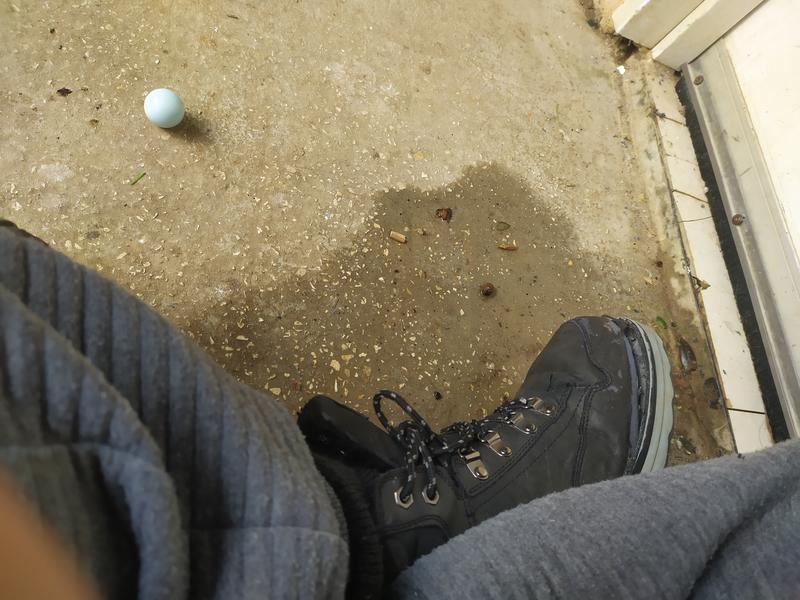Warning: (142, 86, 187, 130)
